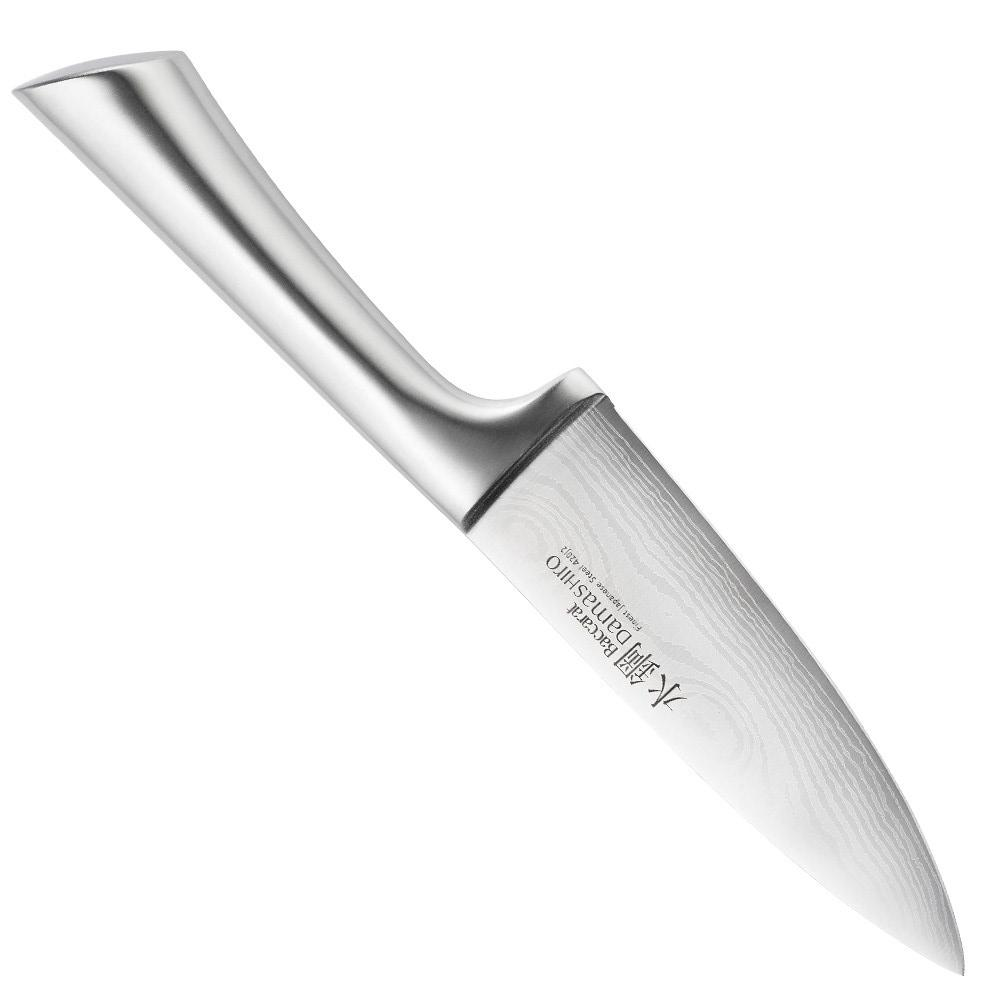knife: (9, 50, 974, 984)
